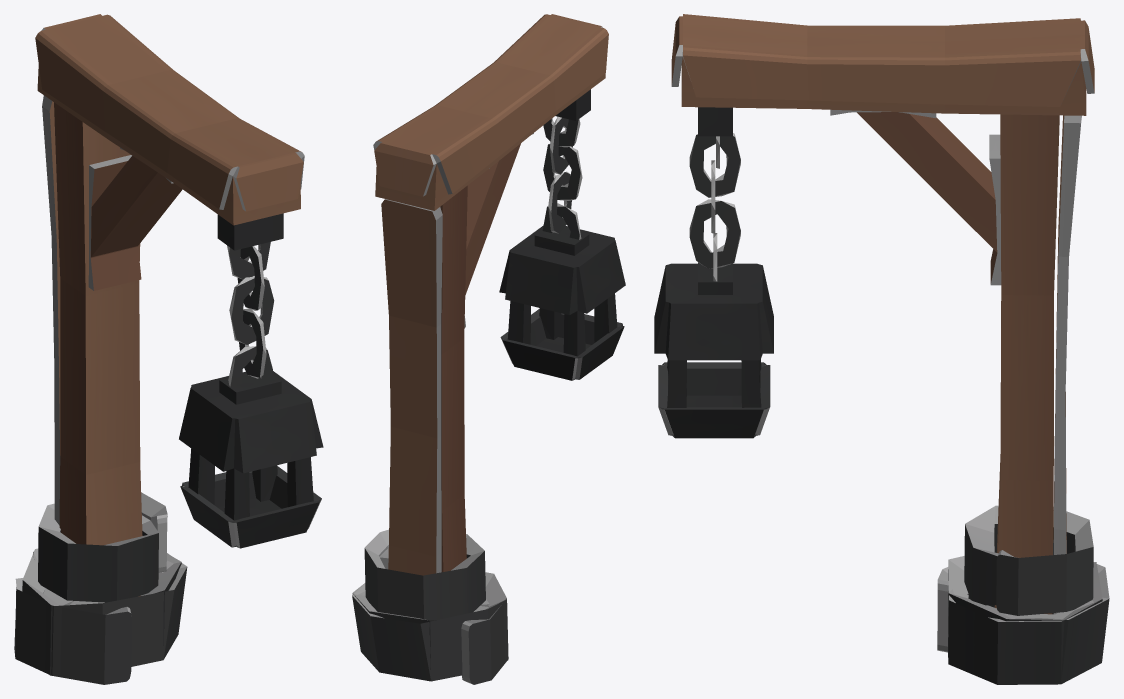
Rendered from paper lamp 2.fbx.
3 renders of one model, left to right at view 1: azimuth 30°, elevation 25°; view 2: azimuth 150°, elevation 25°; view 3: azimuth 270°, elevation 25°, orthographic. The views are drawn at different scales.
Visible parts, largest first — view 1: Cube.004, Cube.003, Cylinder.011, Cube, Cylinder.005, Cube.005, Cube.001, Cube.002, Cube.006, Cube.010, Cube.008, Cylinder.009 (+5 smaller); view 2: Cube.004, Cube.006, Cylinder.011, Cube.003, Cube, Cylinder.005, Cube.001, Cube.002, Cube.005, Cylinder.009, Cube.007, Cylinder.010 (+4 smaller); view 3: Cube.004, Cube.003, Cylinder.011, Cube, Cylinder.005, Cube.005, Cube.001, Cube.006, Cylinder.010, Cylinder.008, Cube.002, Cube.010 (+2 smaller).
Boxes of the visible parts, box(x1,y1,x2,y2) form: Cube.004: box(35, 14, 304, 225); Cube.003: box(54, 102, 142, 596); Cylinder.011: box(14, 548, 187, 684); Cube: box(179, 371, 323, 473); Cylinder.005: box(38, 492, 167, 602); Cube.005: box(91, 155, 182, 257); Cube.001: box(180, 466, 321, 548); Cube.002: box(188, 448, 313, 520); Cube.006: box(42, 95, 60, 525); Cube.010: box(88, 155, 141, 290); Cube.008: box(217, 213, 283, 250); Cylinder.009: box(229, 276, 274, 344); Cube.004: box(373, 14, 608, 210); Cube.006: box(381, 199, 442, 575); Cylinder.011: box(352, 572, 508, 684); Cube.003: box(440, 185, 467, 572); Cube: box(499, 225, 625, 315); Cylinder.005: box(364, 529, 485, 620); Cube.001: box(500, 309, 624, 380); Cube.002: box(507, 293, 617, 356); Cube.005: box(465, 143, 520, 294); Cylinder.009: box(543, 144, 582, 200); Cube.007: box(534, 228, 589, 255); Cylinder.010: box(548, 171, 571, 233); Cube.004: box(671, 14, 1094, 115); Cube.003: box(994, 114, 1059, 614); Cylinder.011: box(937, 556, 1109, 684); Cube: box(654, 263, 773, 360); Cylinder.005: box(964, 505, 1093, 615); Cube.005: box(857, 112, 997, 252); Cube.001: box(658, 362, 770, 438); Cube.006: box(1053, 115, 1081, 614); Cylinder.010: box(689, 199, 740, 268); Cylinder.008: box(689, 133, 740, 197); Cube.002: box(667, 359, 761, 407); Cube.010: box(989, 134, 1001, 285).
Bounding box in the file's own units: 88.27 × 340 × 223.
